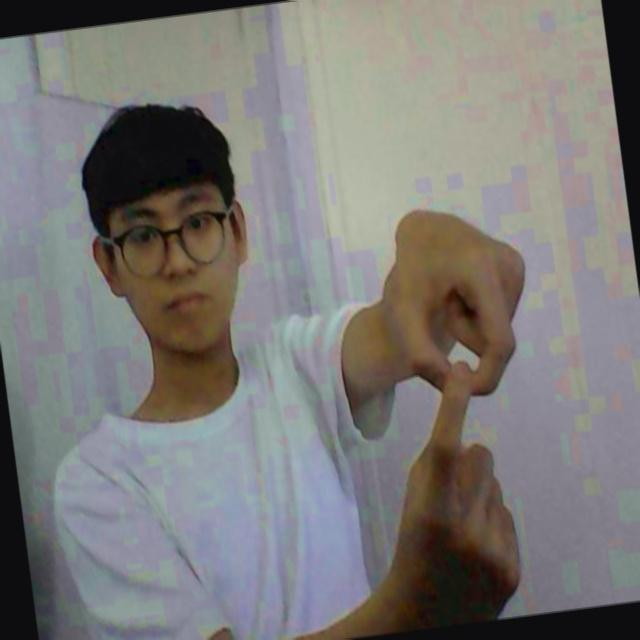Q: (384, 221, 532, 599)
